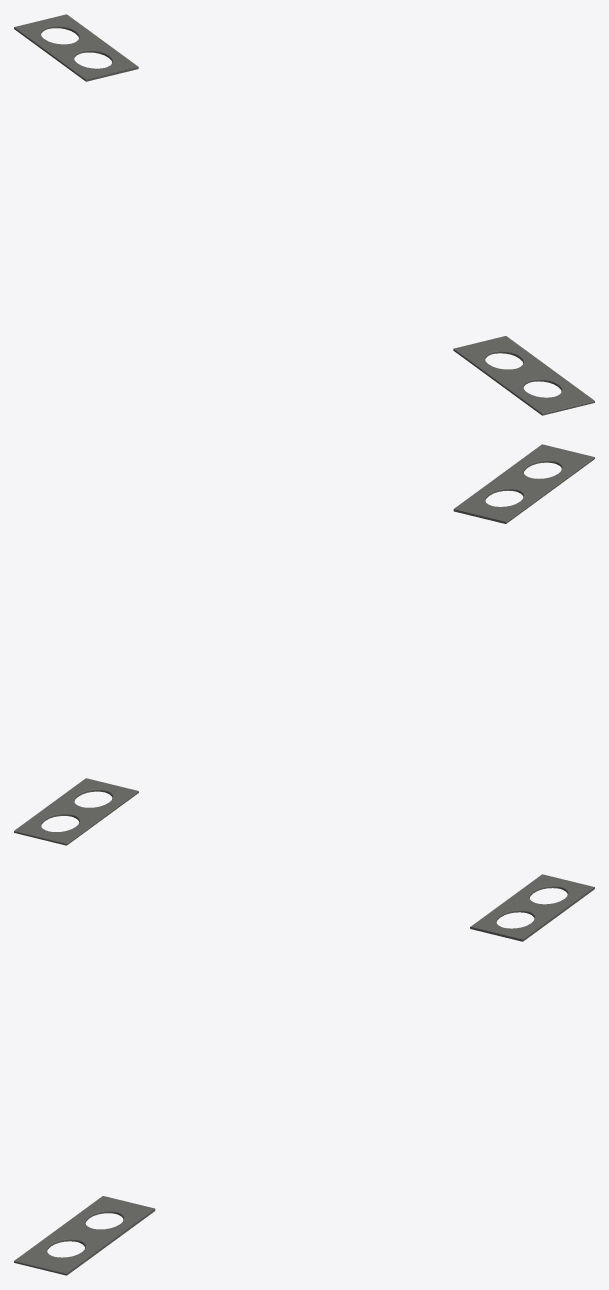
The model's file is Countertops_QuartzExpoGray_.glb.
3 renders of one model, top to bottom at view 1: azimuth 30°, elevation 25°; view 2: azimuth 150°, elevation 25°; view 3: azimuth 330°, elevation 25°, orthographic.
Parts seen in each view (by area): view 1: Countertops_Quartz Expo Gray_; view 2: Countertops_Quartz Expo Gray_; view 3: Countertops_Quartz Expo Gray_.
Boxes of the visible parts, x1,y1,x2,y2 form: Countertops_Quartz Expo Gray_: (14, 14, 594, 415); Countertops_Quartz Expo Gray_: (14, 444, 594, 845); Countertops_Quartz Expo Gray_: (14, 874, 594, 1275).
Size of the model in its own units: 0.9958 by 0.04 by 17.25.
1 material, 1 textured.
